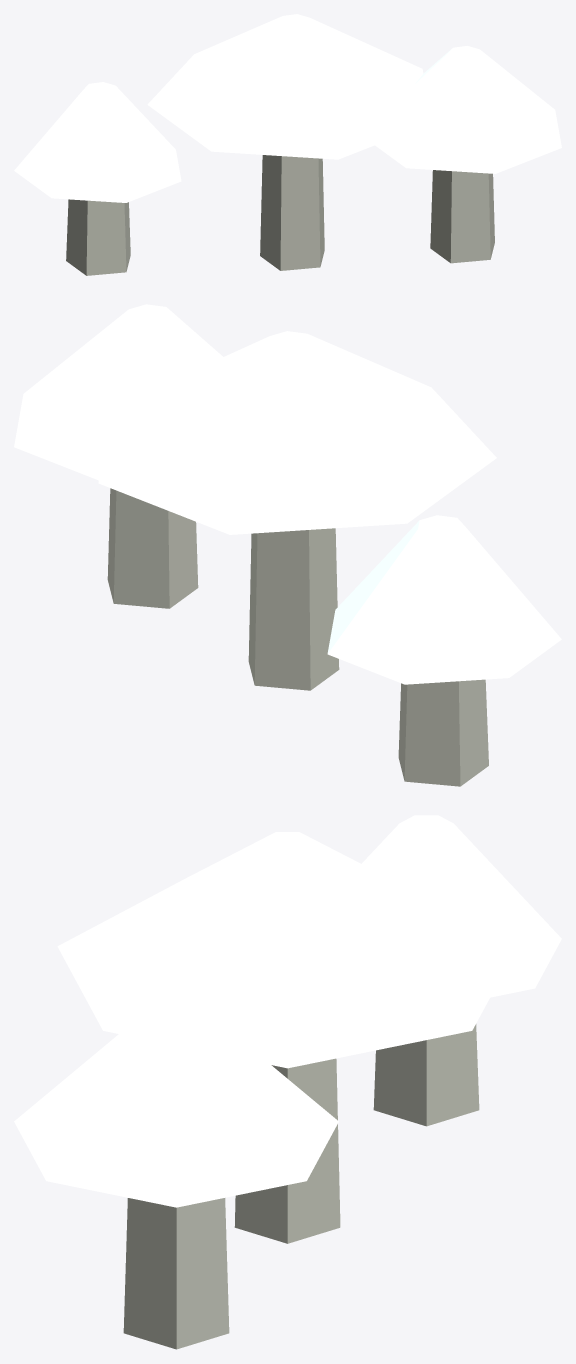
Rendered from hs_glowcap.glb.
3 renders of one model, top to bottom at view 1: azimuth 30°, elevation 25°; view 2: azimuth 150°, elevation 25°; view 3: azimuth 270°, elevation 25°, orthographic. The views are drawn at different scales.
Parts seen in each view (by area): view 1: hs_glowcap; view 2: hs_glowcap; view 3: hs_glowcap.
Part boxes in pixels (box(x1,y1,x2,y2)): hs_glowcap: box(14, 14, 561, 275); hs_glowcap: box(14, 304, 561, 786); hs_glowcap: box(14, 815, 561, 1349).
Bounding box in the file's own units: 0.5901 × 0.3 × 0.3945.
